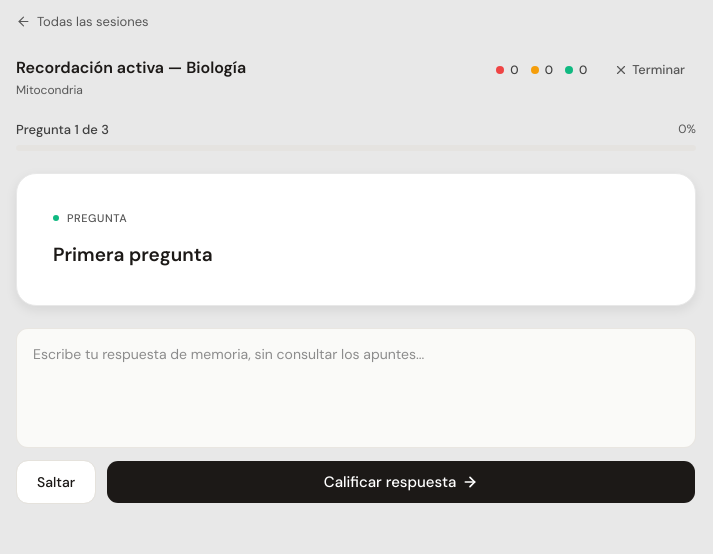
Test: ActiveRecallPlayer session flow › records an empty answer as '(sin respuesta)'
Click the button "Calificar respuesta" at (401, 482), box top-left (106, 460), bottom-right (696, 504)
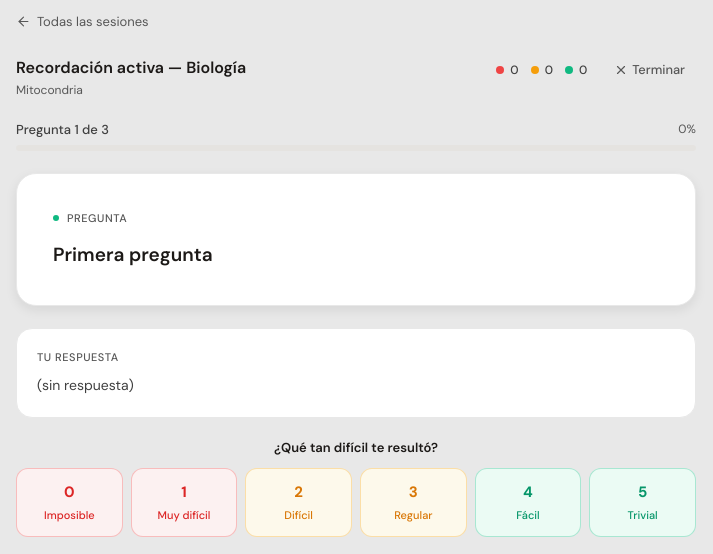
Check: the text "(sin respuesta)" is shown, box top-left (37, 376), bottom-right (134, 394)
